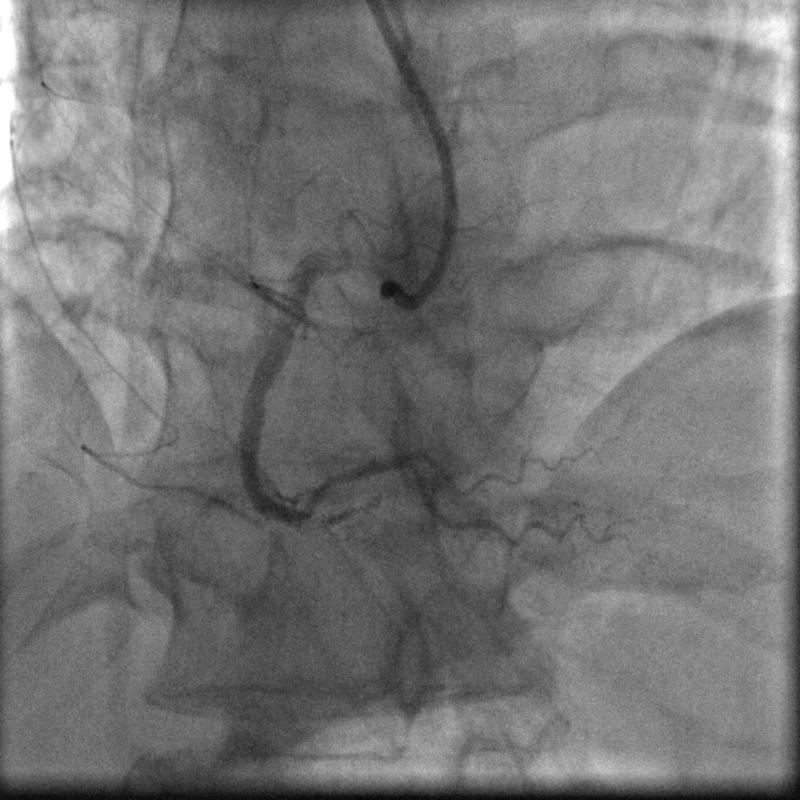Stenosis: (286, 502, 348, 533)
